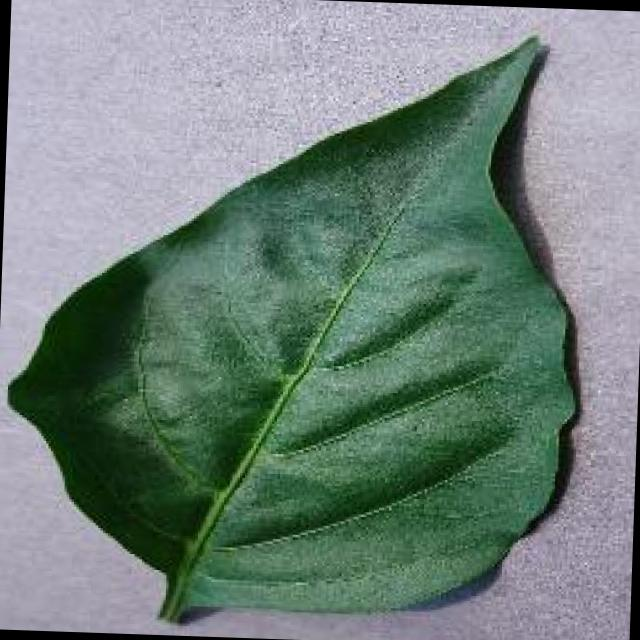Chilli_Healthy: (0, 11, 593, 636)
